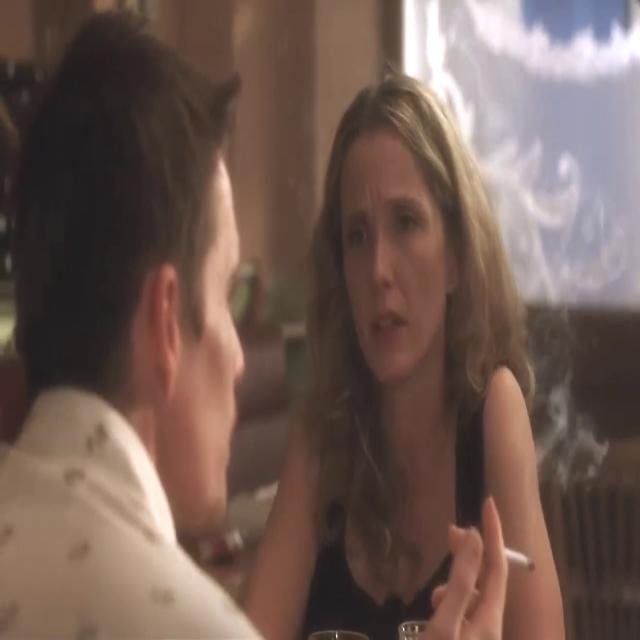Smooking: (501, 528, 538, 586)
